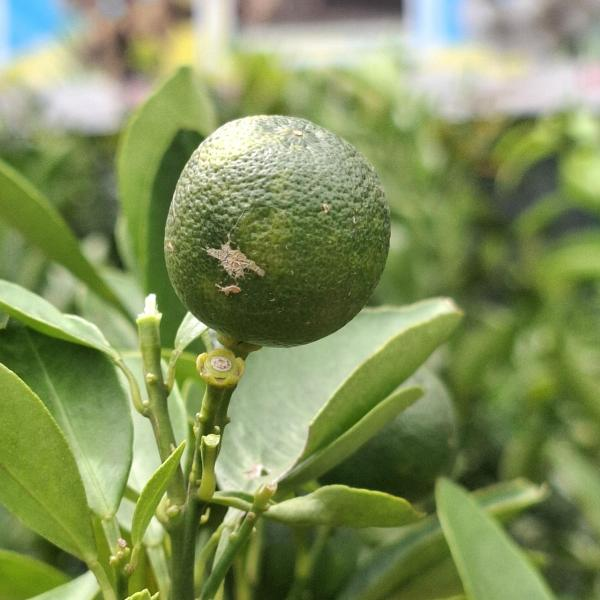Scab: (154, 101, 408, 359)
